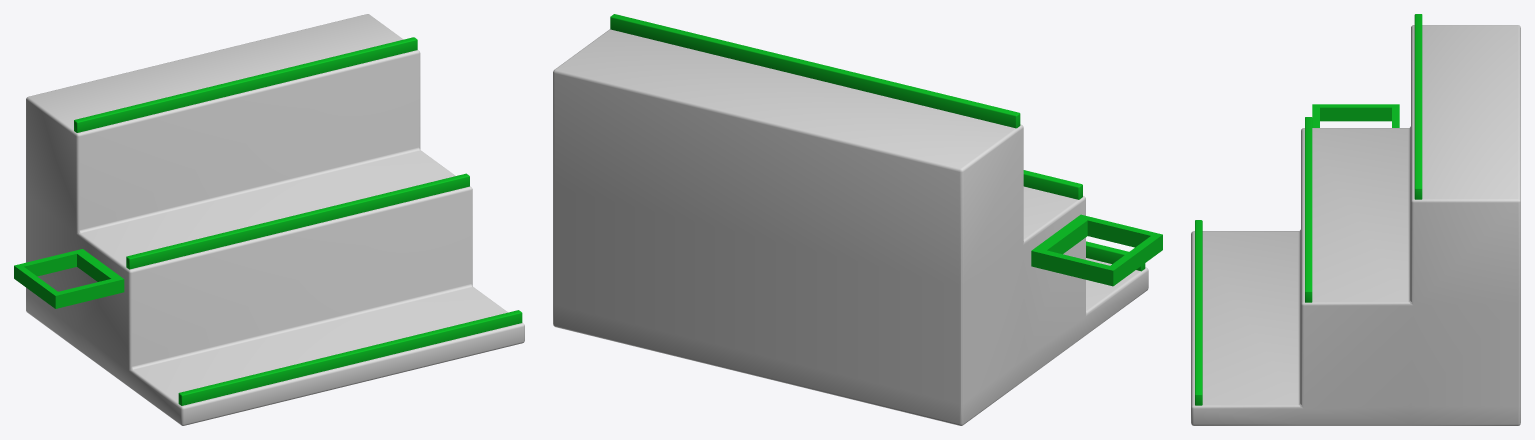
The model's file is display_stand.glb.
3 renders of one model, left to right at view 1: azimuth 30°, elevation 25°; view 2: azimuth 150°, elevation 25°; view 3: azimuth 270°, elevation 25°, orthographic. The views are drawn at different scales.
Parts seen in each view (by area): view 1: Stand, Lip, Holster; view 2: Stand, Lip, Holster; view 3: Stand, Lip, Holster.
Part boxes in pixels (<box>): Stand: <box>26,14,524,425</box>; Lip: <box>74,37,522,405</box>; Holster: <box>14,249,124,308</box>; Stand: <box>553,29,1148,425</box>; Lip: <box>610,14,1145,271</box>; Holster: <box>1031,214,1162,286</box>; Stand: <box>1191,25,1520,425</box>; Lip: <box>1195,14,1422,405</box>; Holster: <box>1312,104,1399,127</box>.
Bounding box in the file's own units: 0.264 × 0.1385 × 0.174.
